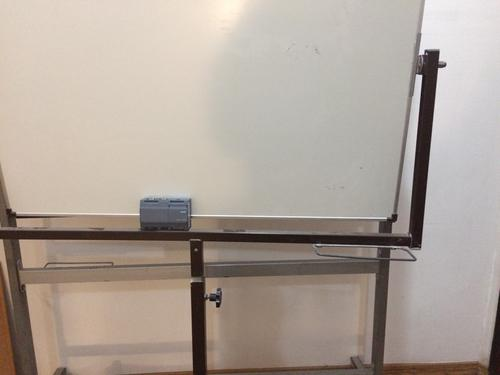iot2000: (139, 196, 193, 233)
